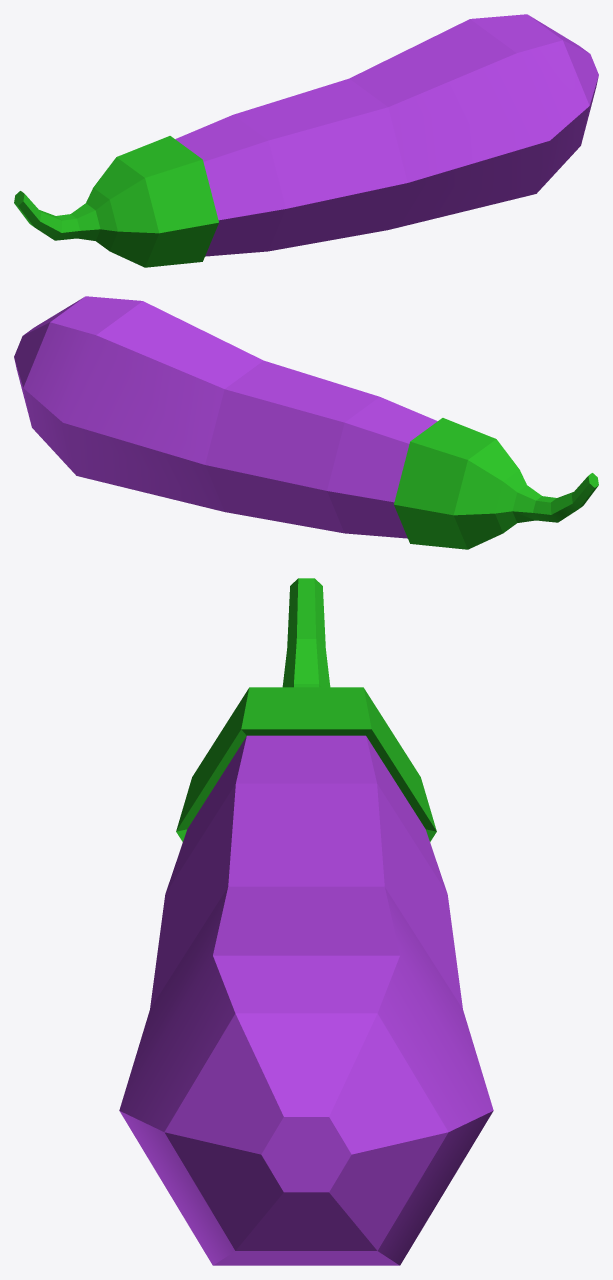
File: Brinjal.fbx
3 views of the same model, one above another, from view 1: azimuth 30°, elevation 25°; view 2: azimuth 150°, elevation 25°; view 3: azimuth 270°, elevation 25° (orthographic). The views are drawn at different scales.
Visible parts, largest first — view 1: Brinjal; view 2: Brinjal; view 3: Brinjal.
Part boxes in pixels (x1,y1,x2,y2): Brinjal: (14,14,598,267); Brinjal: (14,296,598,549); Brinjal: (119,578,493,1265).
Bounding box in the file's own units: 539 × 134 × 152.
